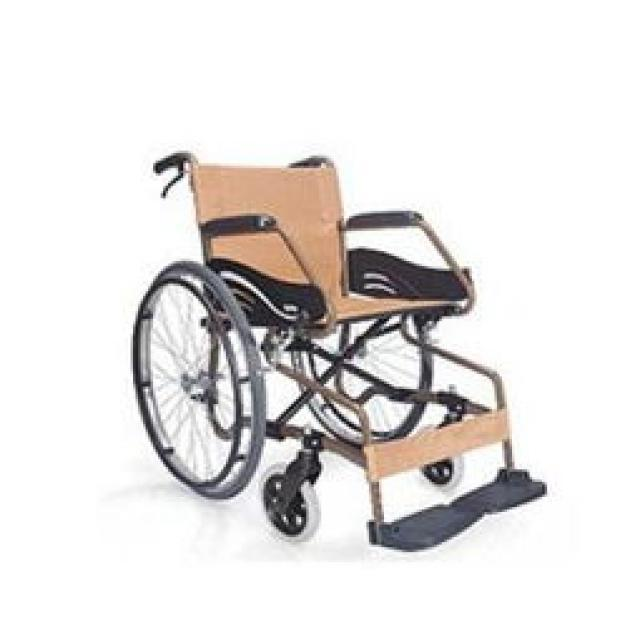wheelchairs: (133, 148, 544, 554)
